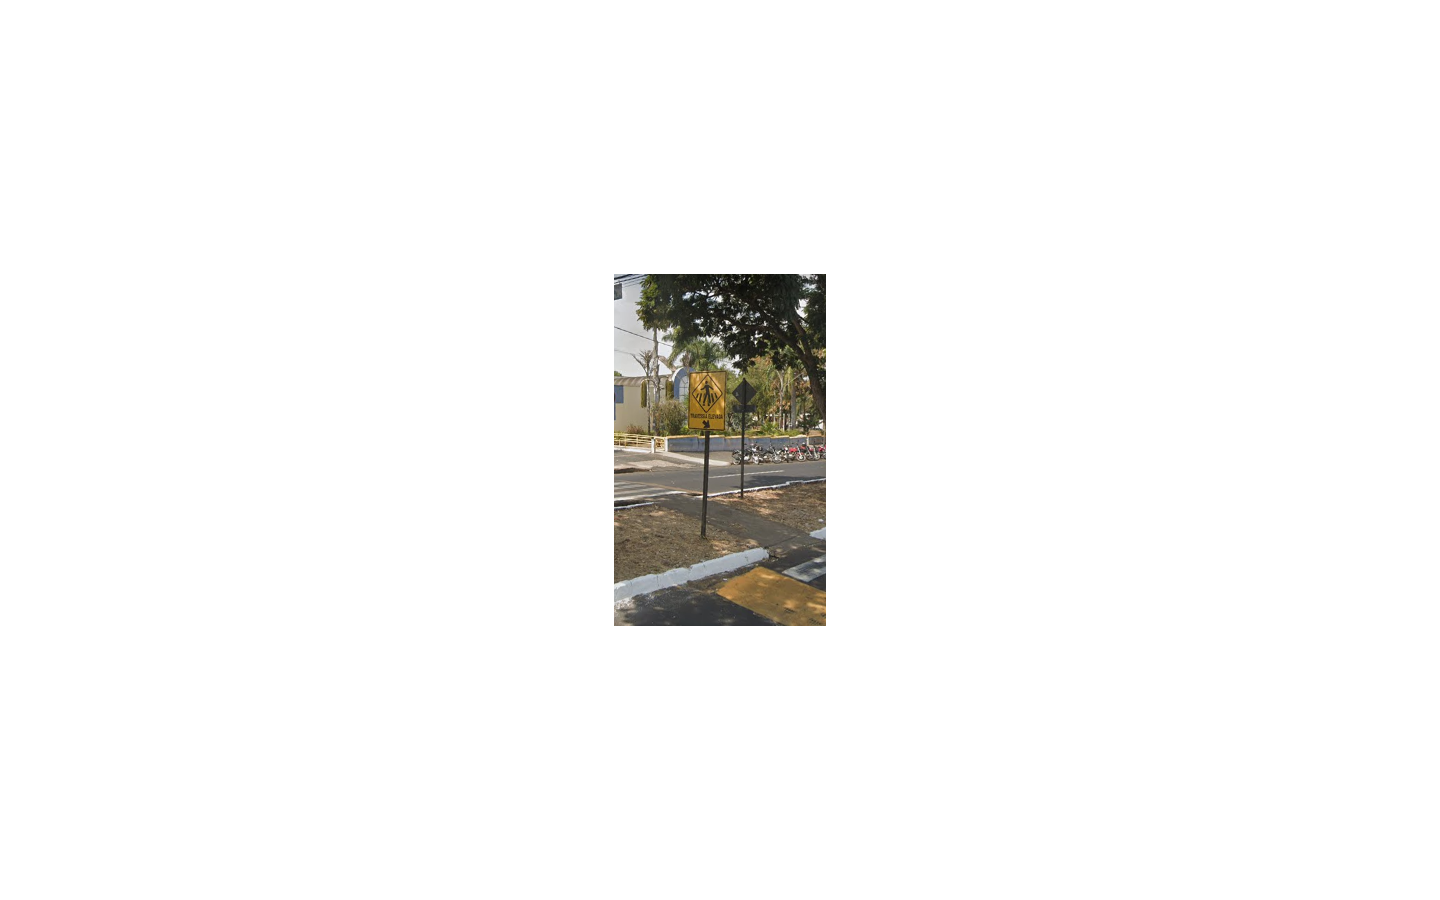telev: (688, 370, 726, 431)
